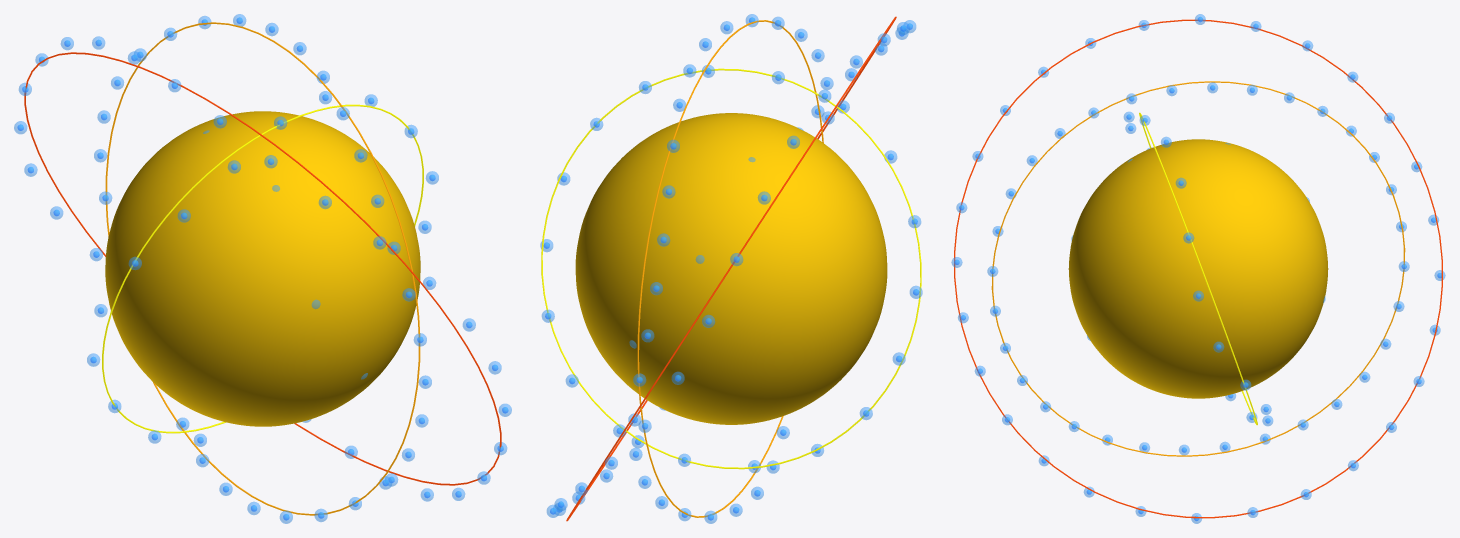
The picture shows the model from 3 angles, left to right: view 1: azimuth 30°, elevation 25°; view 2: azimuth 150°, elevation 25°; view 3: azimuth 270°, elevation 25°; orthographic projection. The views are drawn at different scales.
Visible parts, largest first — view 1: Ra, object 61, object 126, object 24; view 2: Ra, object 24, object 61, object 126; view 3: Ra, object 126, object 61, object 24.
Part boxes in pixels (left/top/right/bottom): Ra: left=105, top=111, right=420, bottom=426; object 61: left=105, top=22, right=420, bottom=515; object 126: left=24, top=52, right=501, bottom=485; object 24: left=102, top=104, right=423, bottom=433; Ra: left=575, top=113, right=887, bottom=424; object 24: left=541, top=68, right=921, bottom=469; object 61: left=637, top=20, right=823, bottom=517; object 126: left=566, top=16, right=896, bottom=521; Ra: left=1068, top=139, right=1328, bottom=398; object 126: left=954, top=19, right=1442, bottom=518; object 61: left=991, top=81, right=1405, bottom=456; object 24: left=1139, top=112, right=1257, bottom=425.
Bounding box in the file's own units: 4.93 × 6.46 × 7.12.
